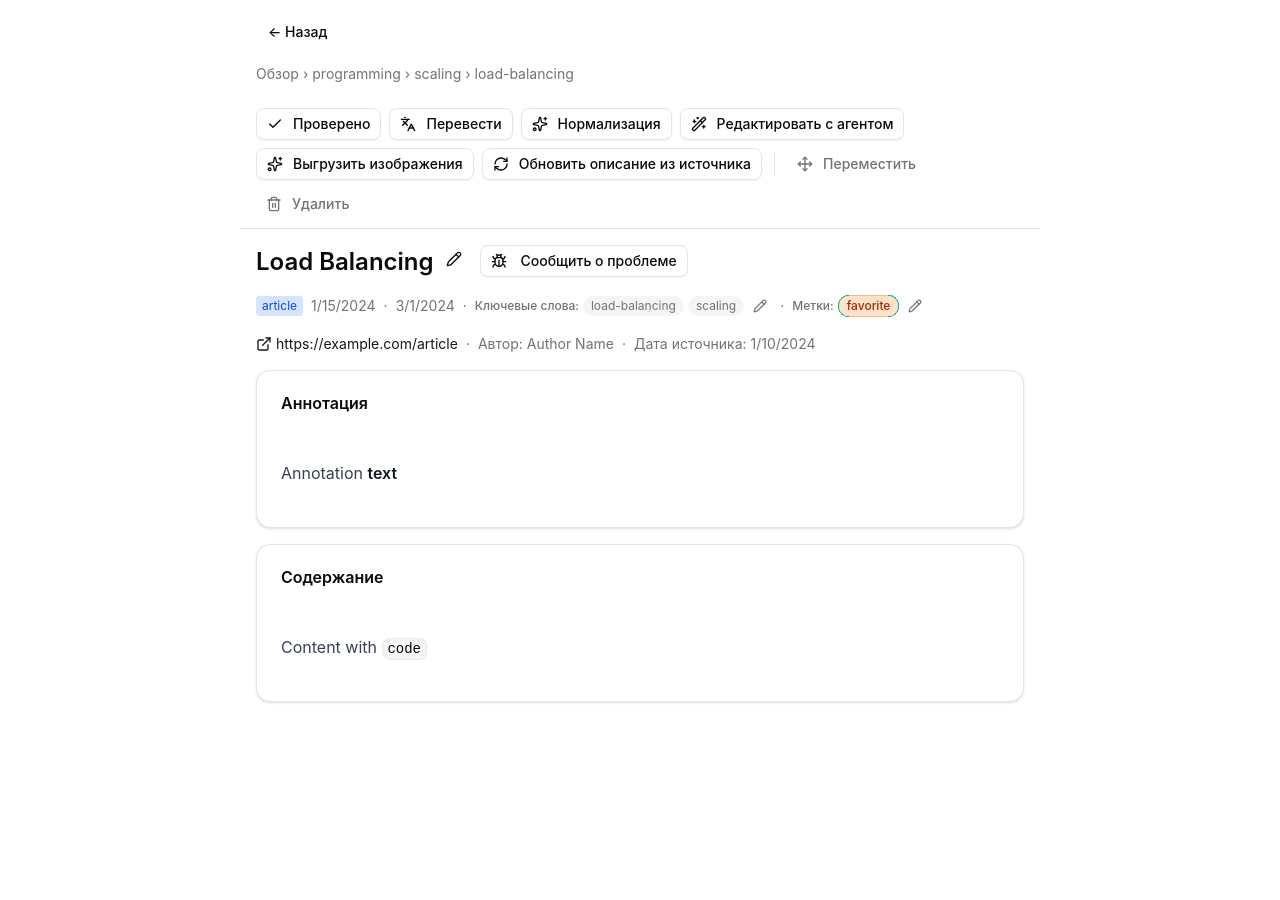
NodePage › keeps title dialog open and shows error when save fails
Check: the heading "Load Balancing" is shown, box [256,245,434,278]
Click the button named "Редактировать заголовок".
click(454, 259)  # box [440,245,468,273]
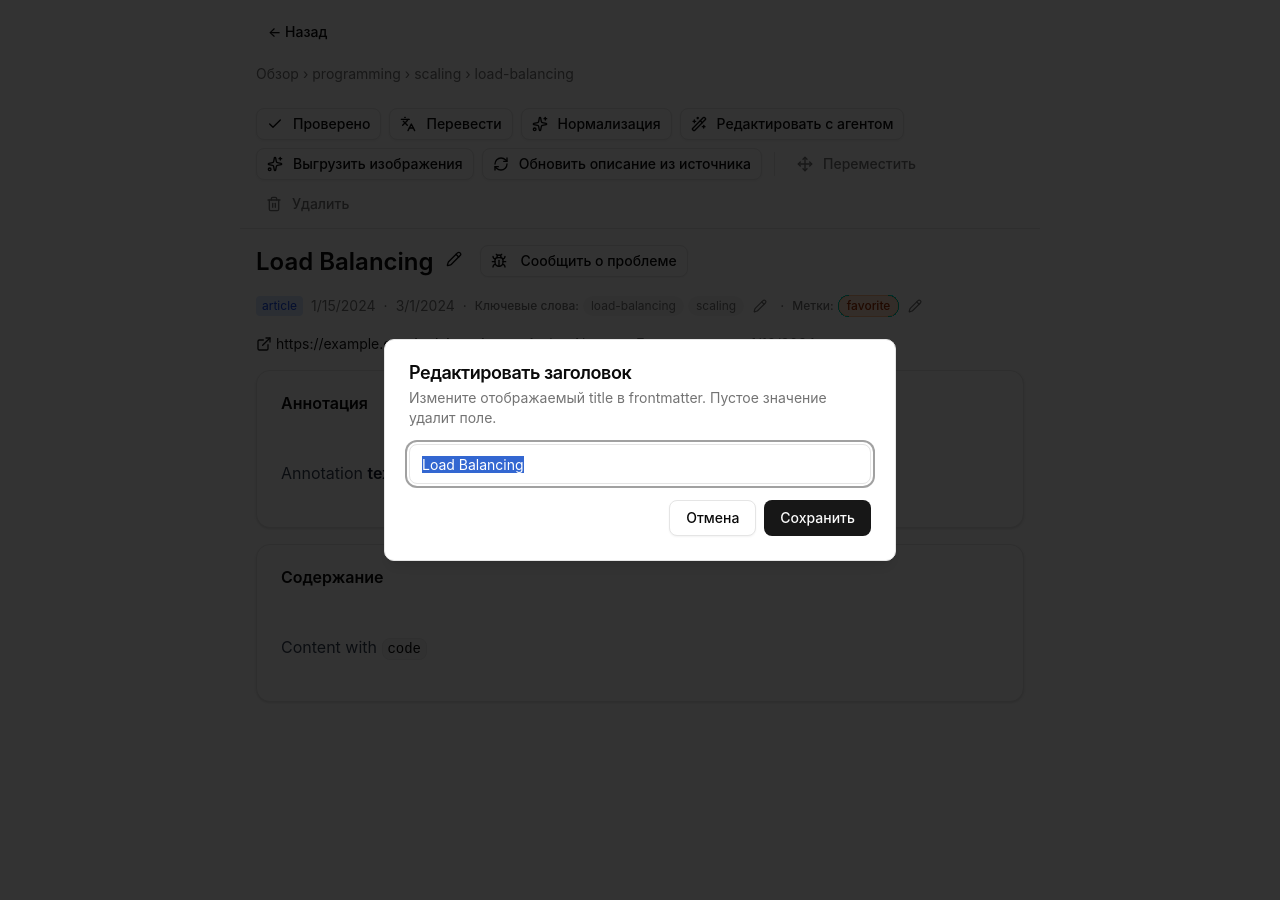
Replace the text in the field with placeholder "Введите заголовок" with "Broken title" at (640, 464), box [409,444,871,484]
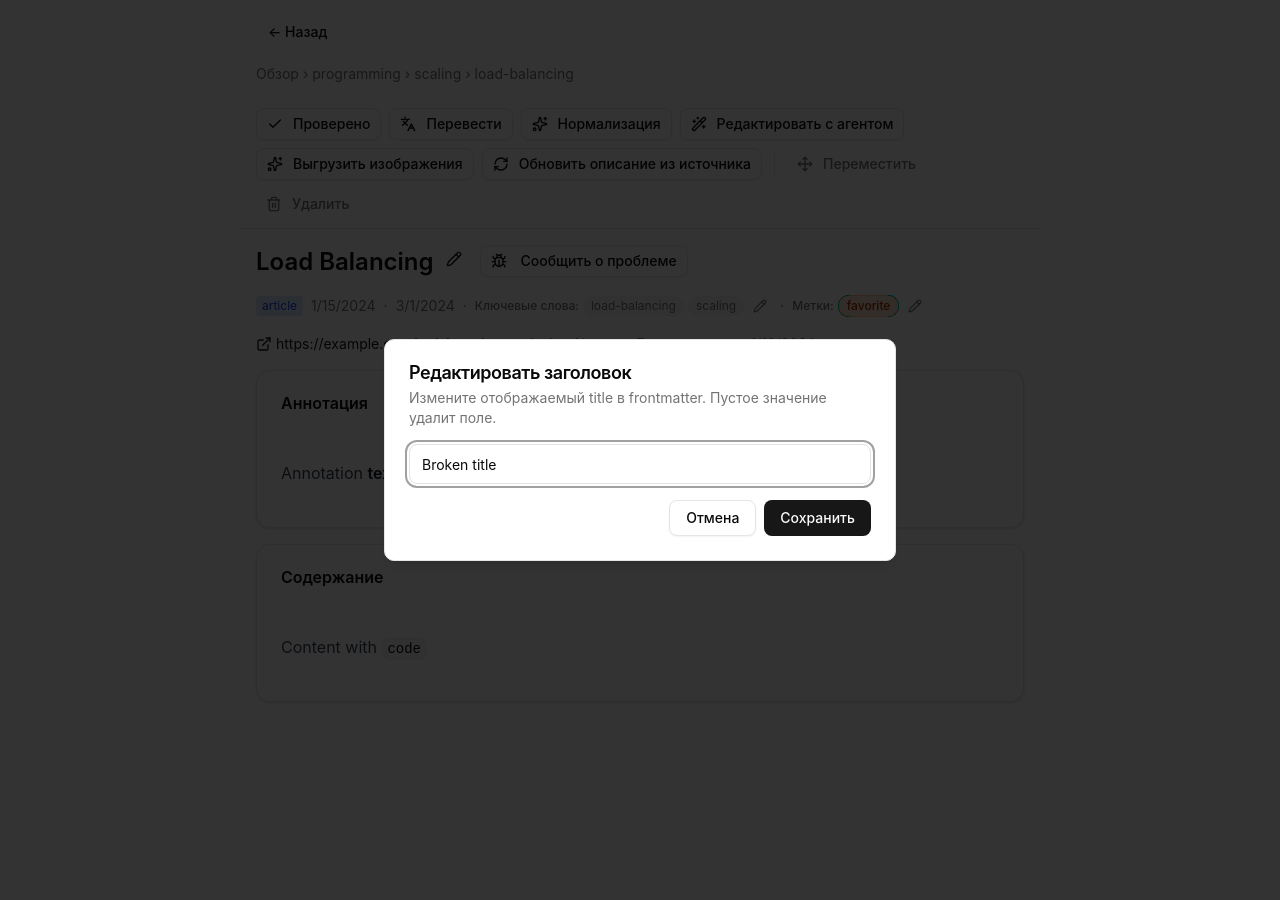
Click the button "Сохранить".
click(818, 518)  # box [764,500,871,536]
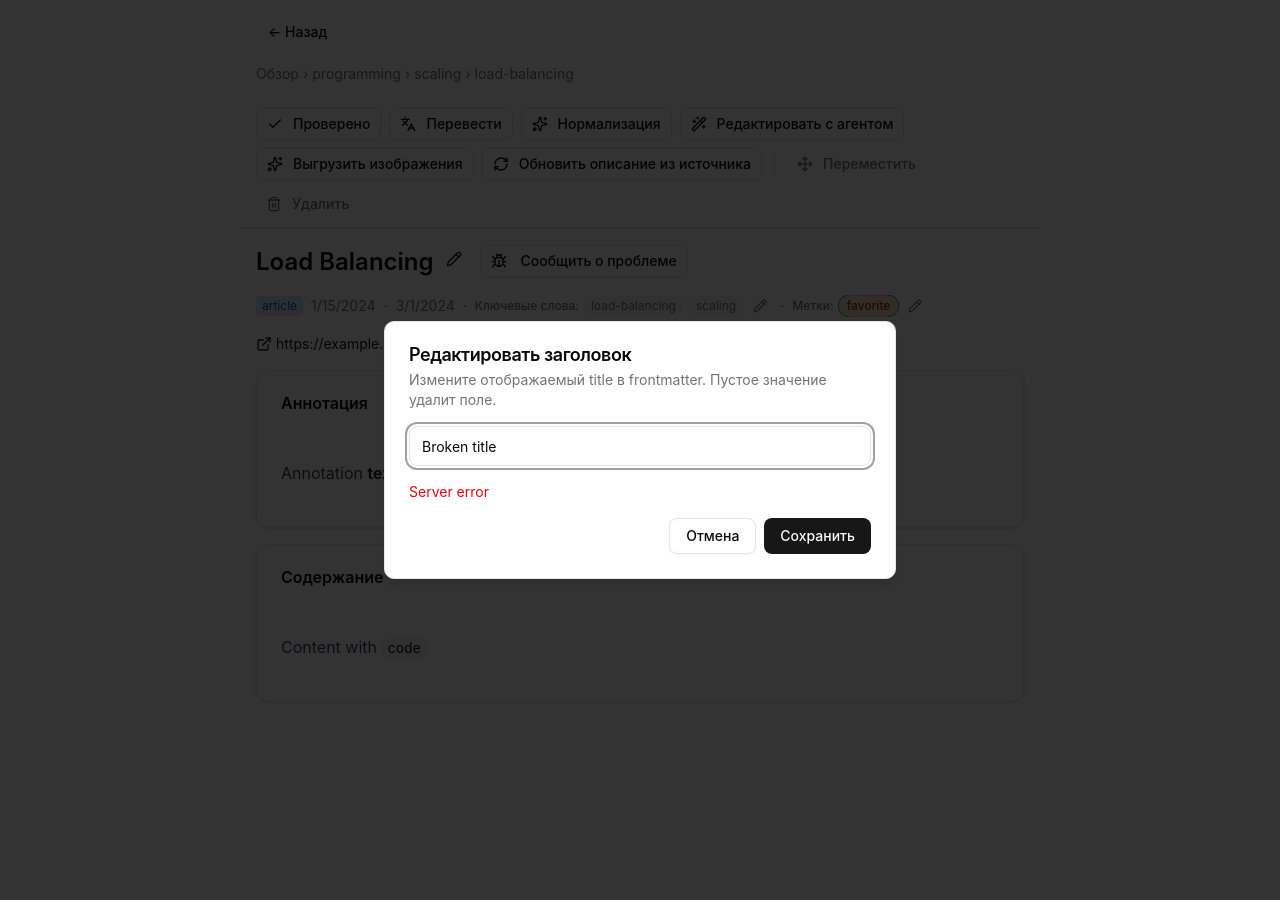
Check: the dialog "Редактировать заголовок" is shown, box [384,321,896,579]
Check: the text "Server error" is shown, box [409,483,489,500]
